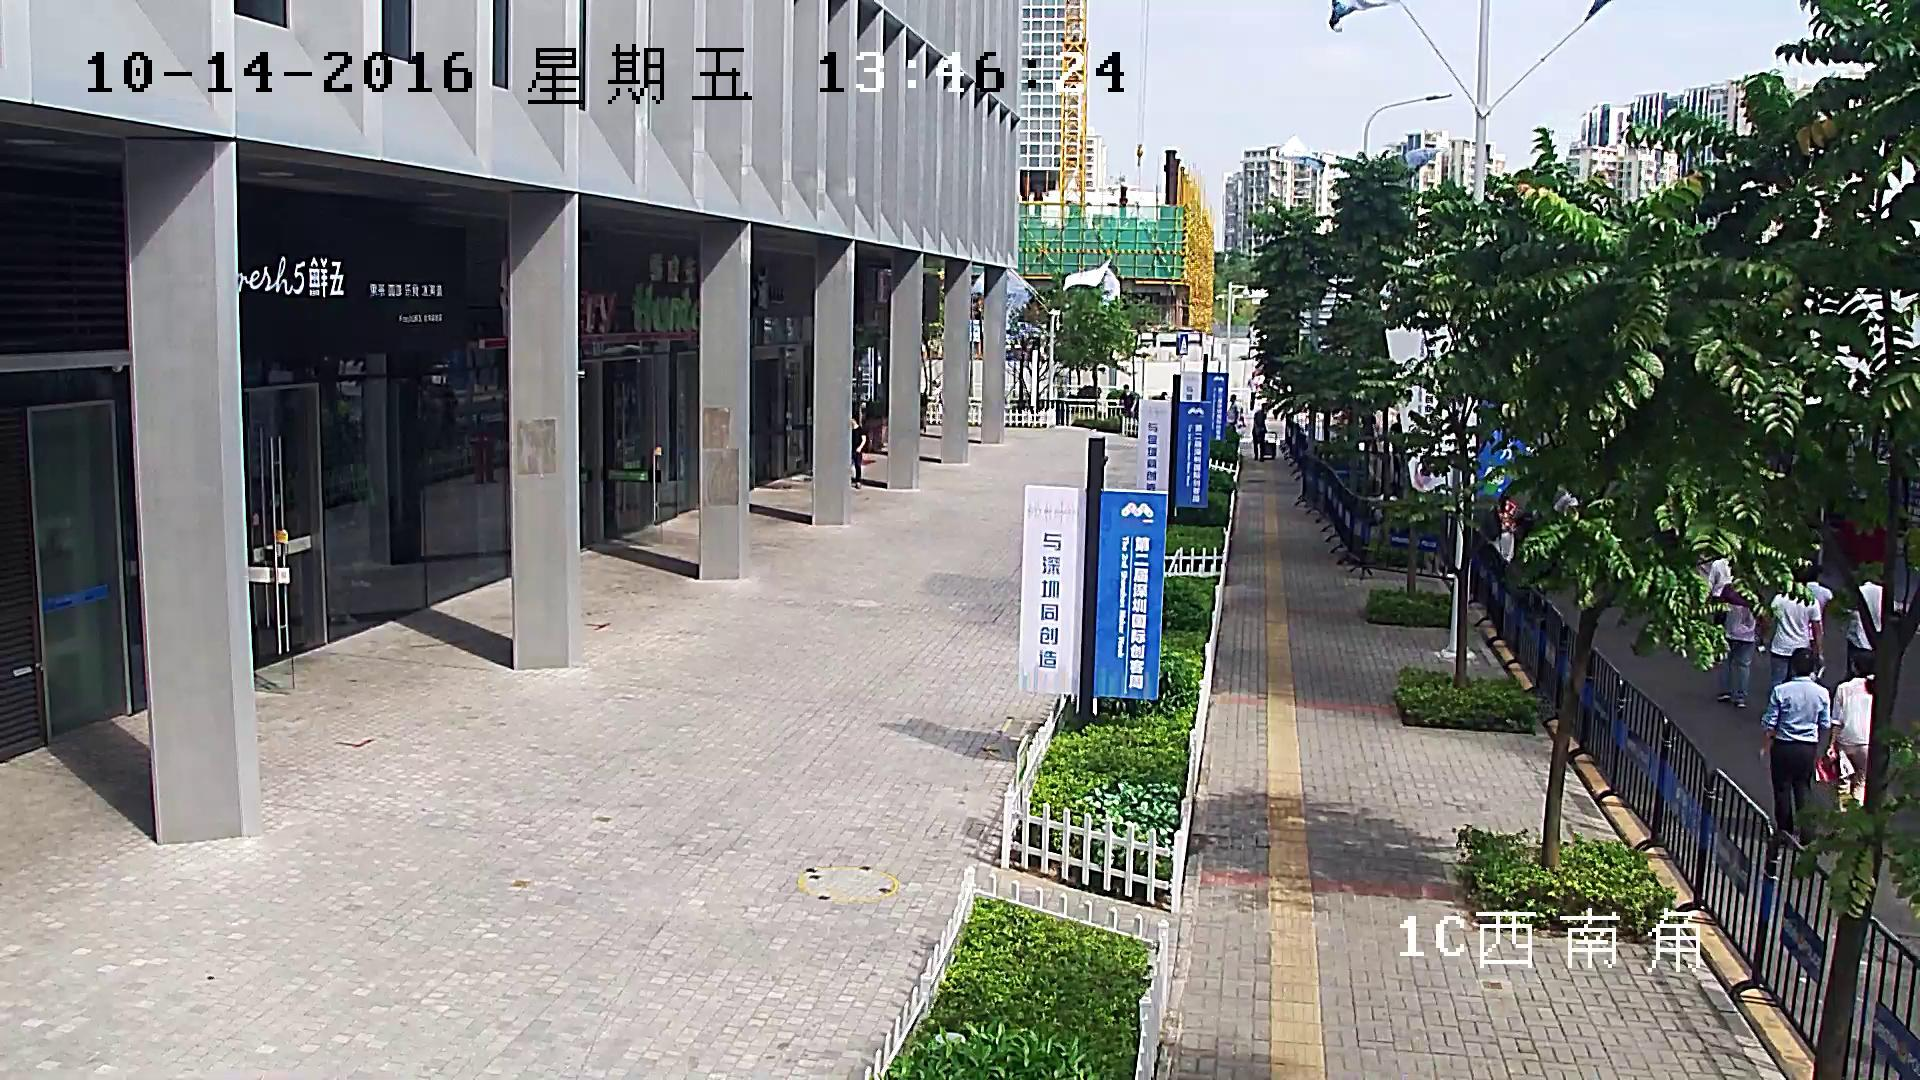person: (1761, 647, 1832, 848), (1816, 648, 1874, 812), (1766, 567, 1823, 705), (1717, 575, 1757, 706), (1846, 578, 1896, 678), (1804, 566, 1833, 662), (1492, 493, 1518, 565), (1709, 553, 1734, 625), (1252, 402, 1277, 462), (851, 416, 866, 489), (1252, 403, 1267, 461), (1390, 413, 1404, 454), (1362, 412, 1376, 452), (1120, 384, 1136, 417), (1227, 393, 1239, 430), (1248, 370, 1257, 410)
